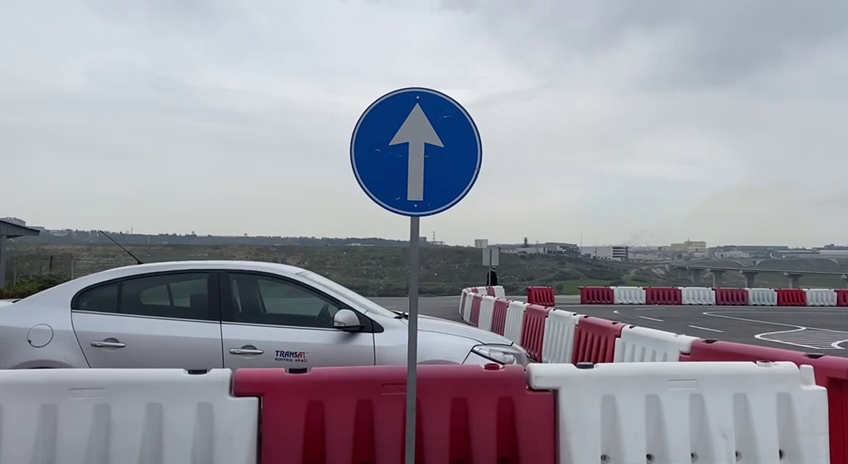forward: (346, 83, 486, 220)
